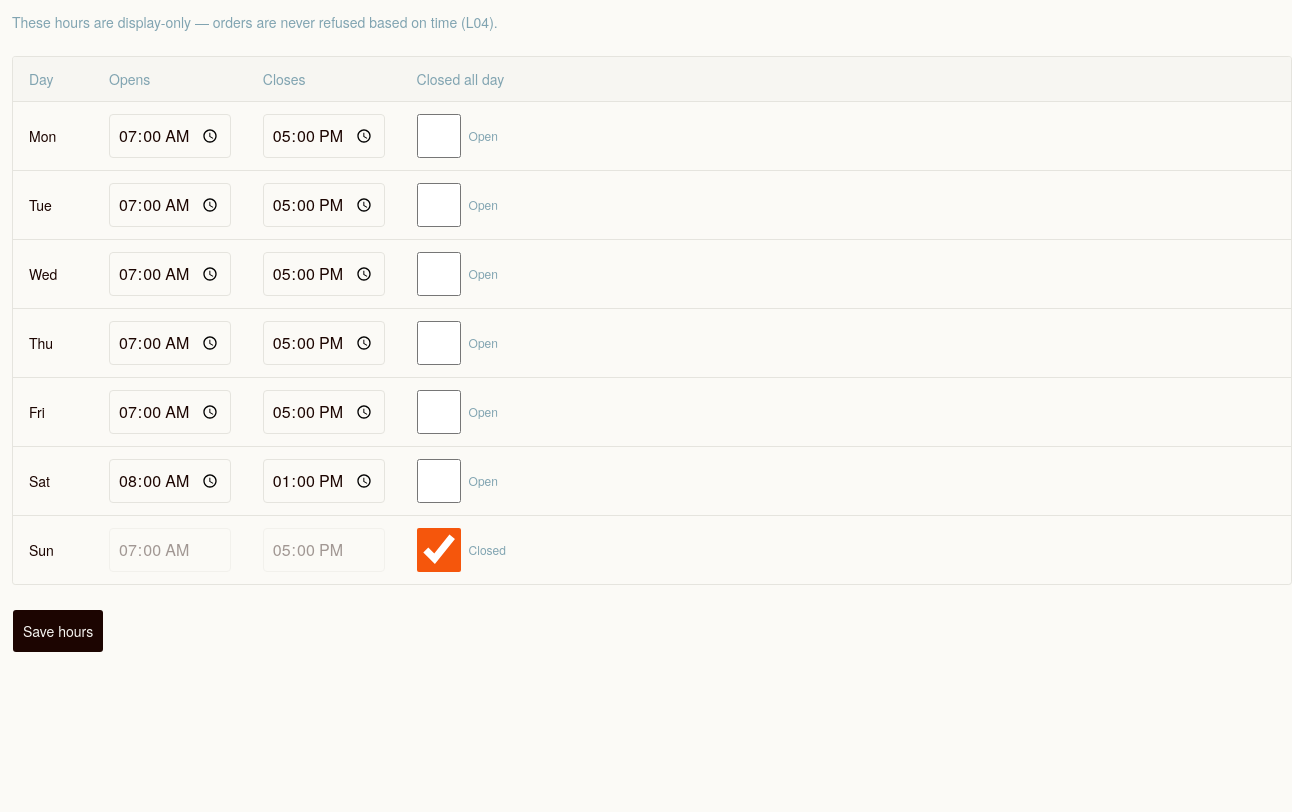
Scenario: HoursEditor — QA r1-admin › shows 'Saved' next to the button after a successful save
Step 1. Click the button "Save hours" → (58, 631), box left=12, top=609, right=104, bottom=653
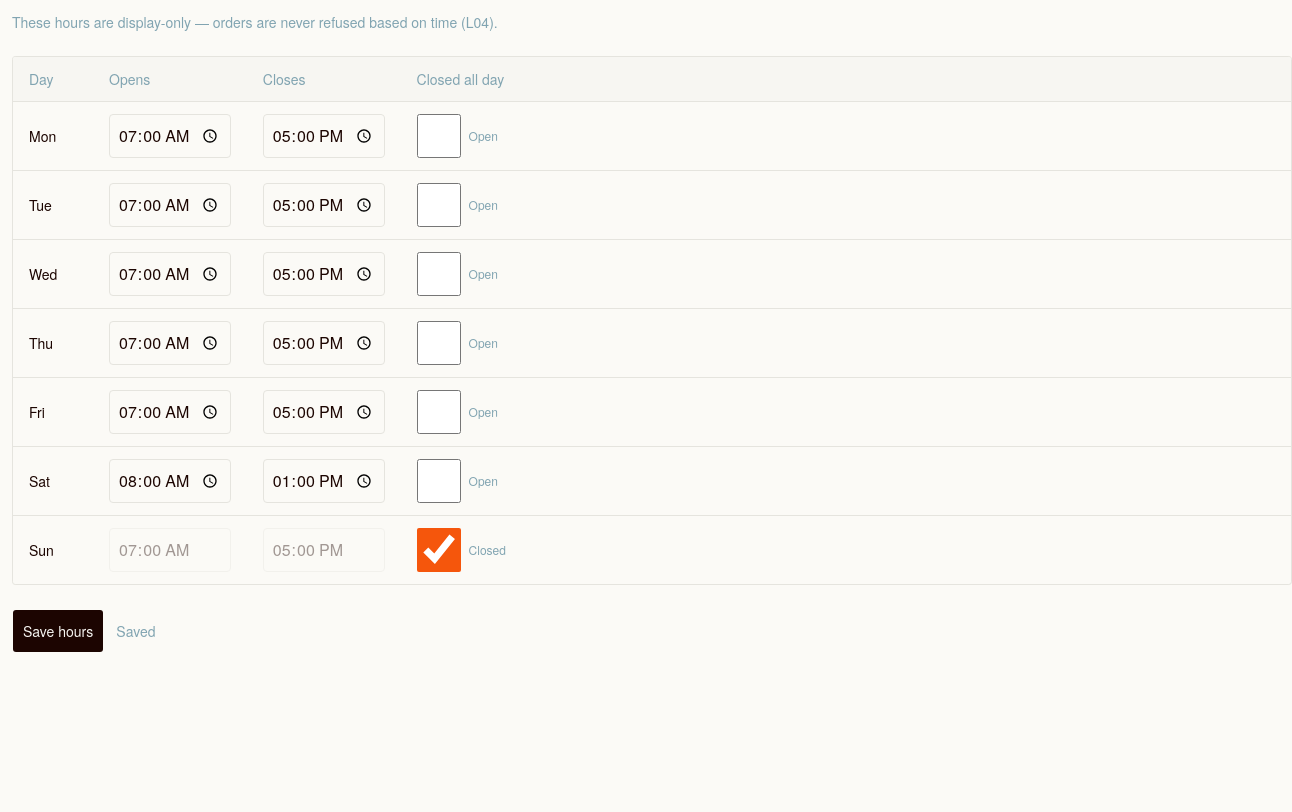
Check: the message reads "Saved", box left=116, top=621, right=155, bottom=641
